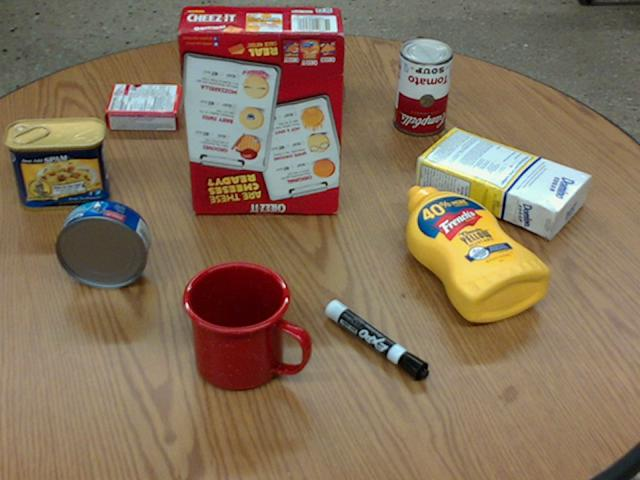cracker_box: (177, 5, 345, 212)
gelatin_box: (105, 84, 181, 130)
large_marker: (324, 299, 428, 380)
master_chef_can: (253, 7, 343, 128)
mug: (182, 261, 311, 391)
mustard_bottle: (404, 185, 548, 321)
potted_meat_can: (3, 117, 110, 211)
sugar_box: (413, 129, 590, 235)
tomato_soup_can: (390, 37, 450, 134)
tuna_fish_can: (55, 199, 149, 288)
